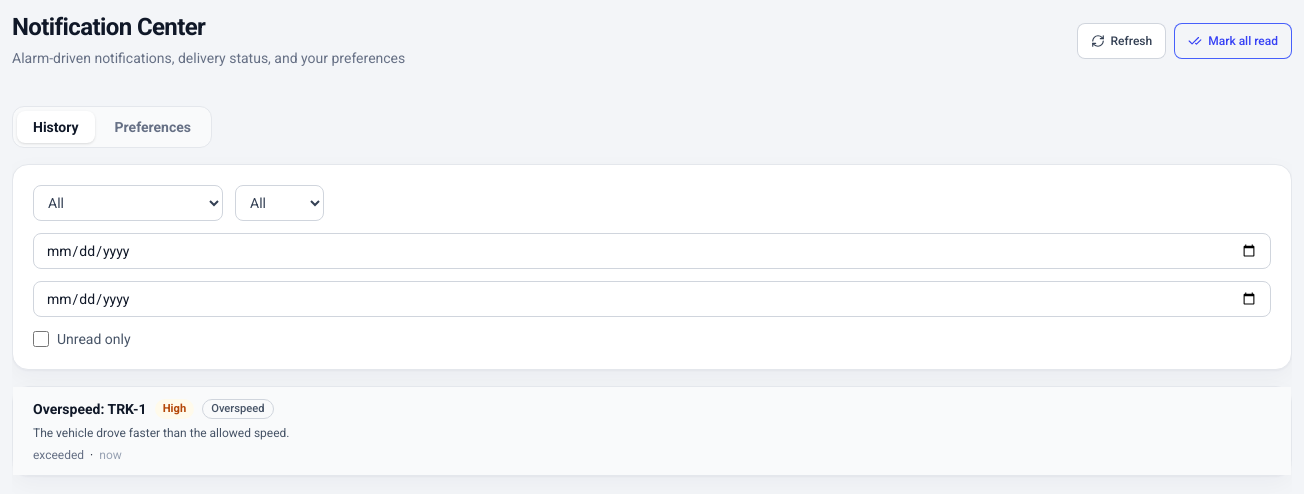
Test: NotificationCenterPage › shows the preferences tab with unavailable channels disabled
Click the tab "Preferences" at (153, 127), box x1=98 y1=111 x2=207 y2=143
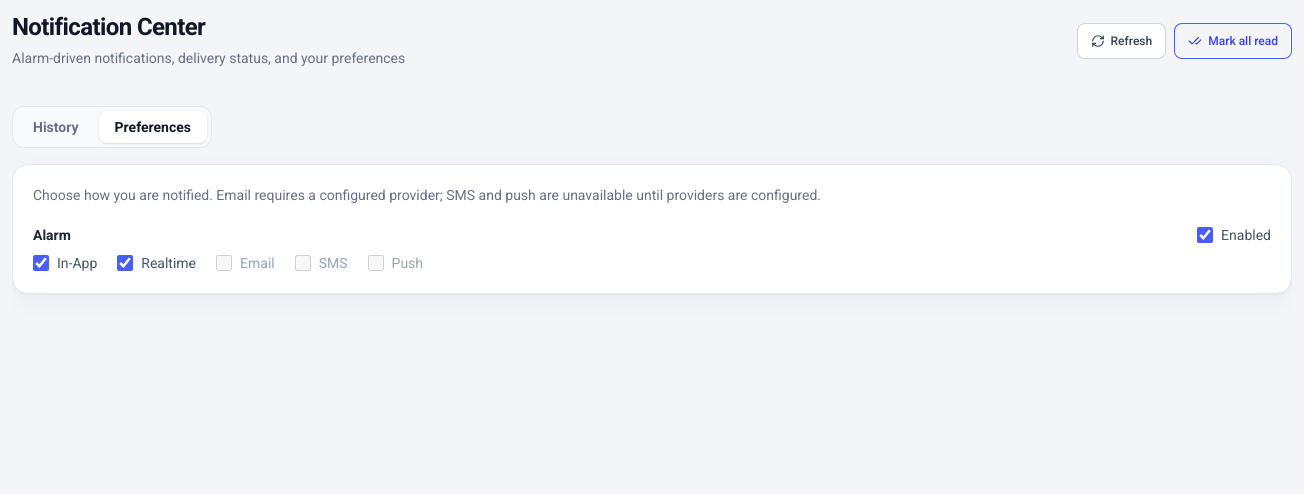
Expected: the text "In-App" is shown, x1=33 y1=253 x2=97 y2=273
Expected: the text "Realtime" is shown, x1=117 y1=253 x2=196 y2=273
Expected: the checkbox labelled "SMS" is disabled, x1=295 y1=255 x2=311 y2=271
